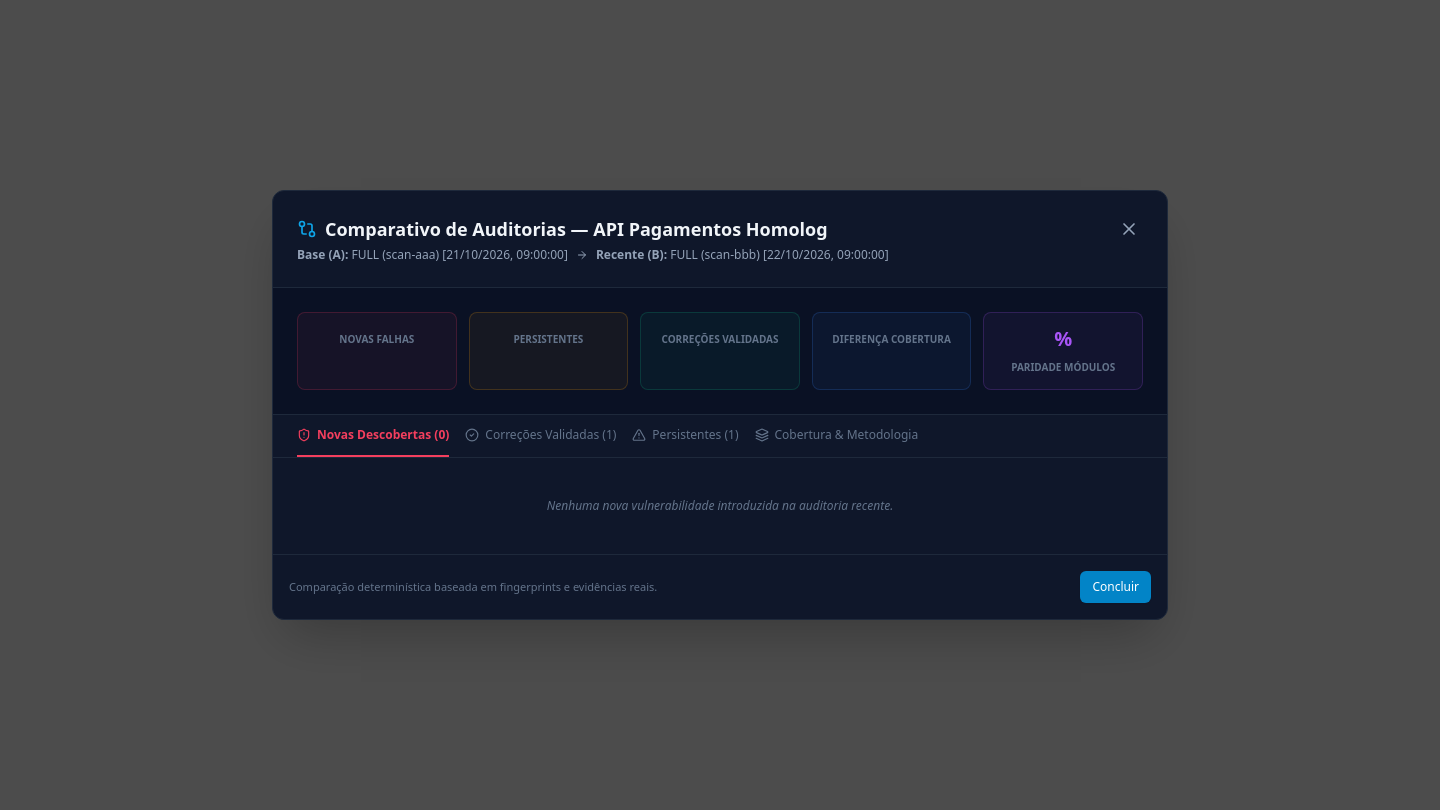
Test case: Fase 6 — Relatórios, Comparação e Gestão de Correções (TM-018) › Modal de Comparação de Auditorias (ScanComparisonModal) › carrega e renderiza o comparativo com métricas de novidades, correções e persistência
The image size is (1440, 810).
Expected: the heading "Comparativo de Auditorias — API Pagamentos Homolog" is shown, [325, 215, 828, 243]
# Navega para aba de Corrigidas
What coordinates should you click on to do the following:
click the button "Correções Validadas (1)"
I would click on:
 (541, 436)
Its box is [465, 415, 616, 457].
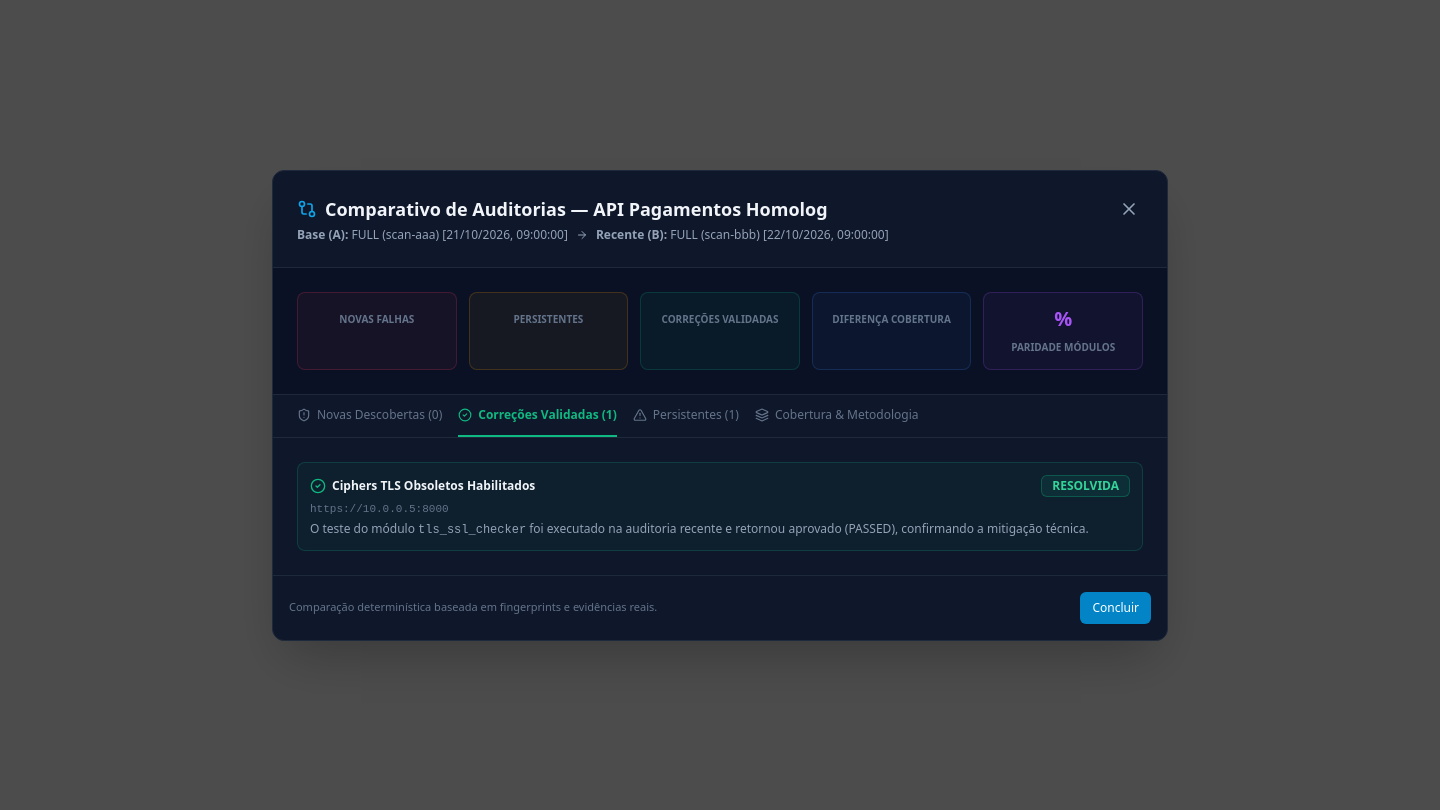
Expected: the text "Ciphers TLS Obsoletos Habilitados" is shown, [310, 478, 535, 494]
